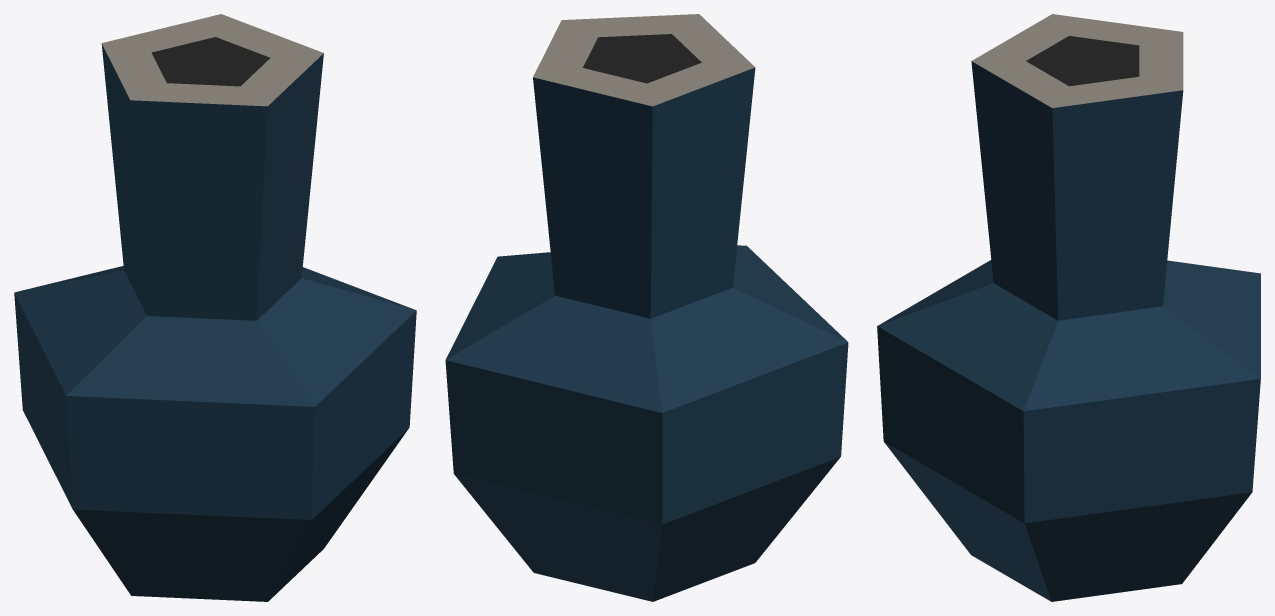
The model's file is TB_D_Prop_Jar_M.FBX.
3 renders of one model, left to right at view 1: azimuth 30°, elevation 25°; view 2: azimuth 150°, elevation 25°; view 3: azimuth 270°, elevation 25°, orthographic.
Visible parts, largest first — view 1: TB_D_Prop_Jar_M; view 2: TB_D_Prop_Jar_M; view 3: TB_D_Prop_Jar_M.
Boxes of the visible parts, bbox=[...] form: TB_D_Prop_Jar_M: bbox=[14, 14, 416, 601]; TB_D_Prop_Jar_M: bbox=[445, 14, 848, 601]; TB_D_Prop_Jar_M: bbox=[877, 14, 1260, 601].
Size of the model in its own units: 0.5737 by 0.7749 by 0.5456.
